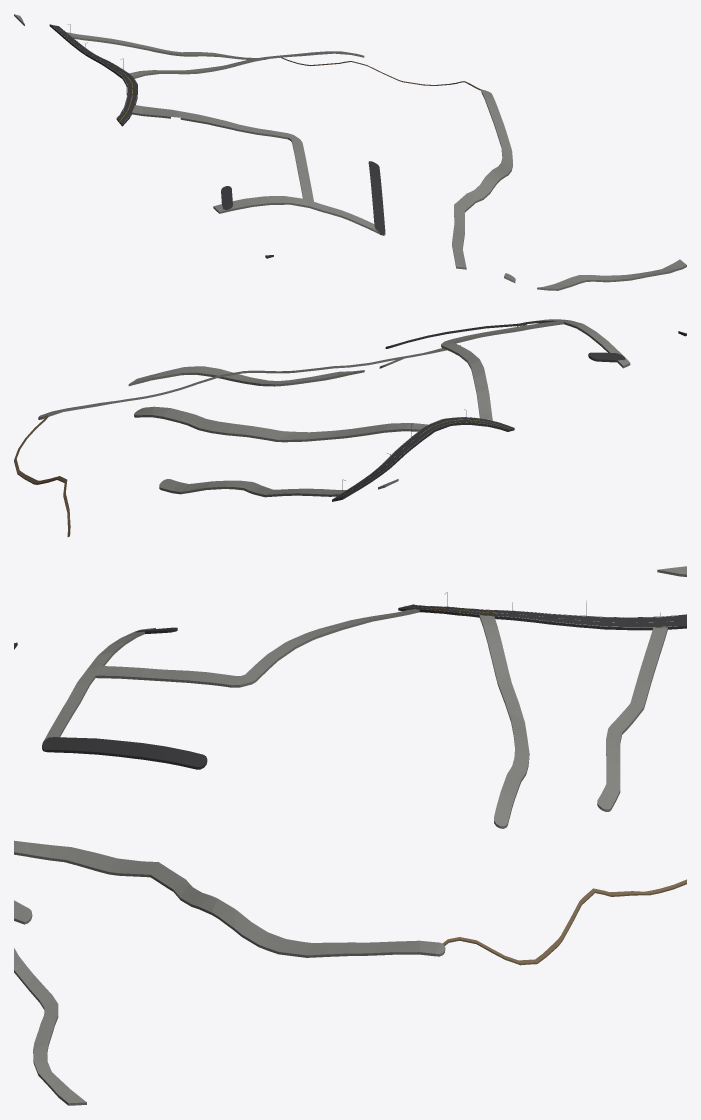
3 views of the same model, one above another, from view 1: azimuth 30°, elevation 25°; view 2: azimuth 150°, elevation 25°; view 3: azimuth 270°, elevation 25° (orthographic). The views are drawn at different scales.
Bounding box in the file's own units: 295 × 121 × 292.
